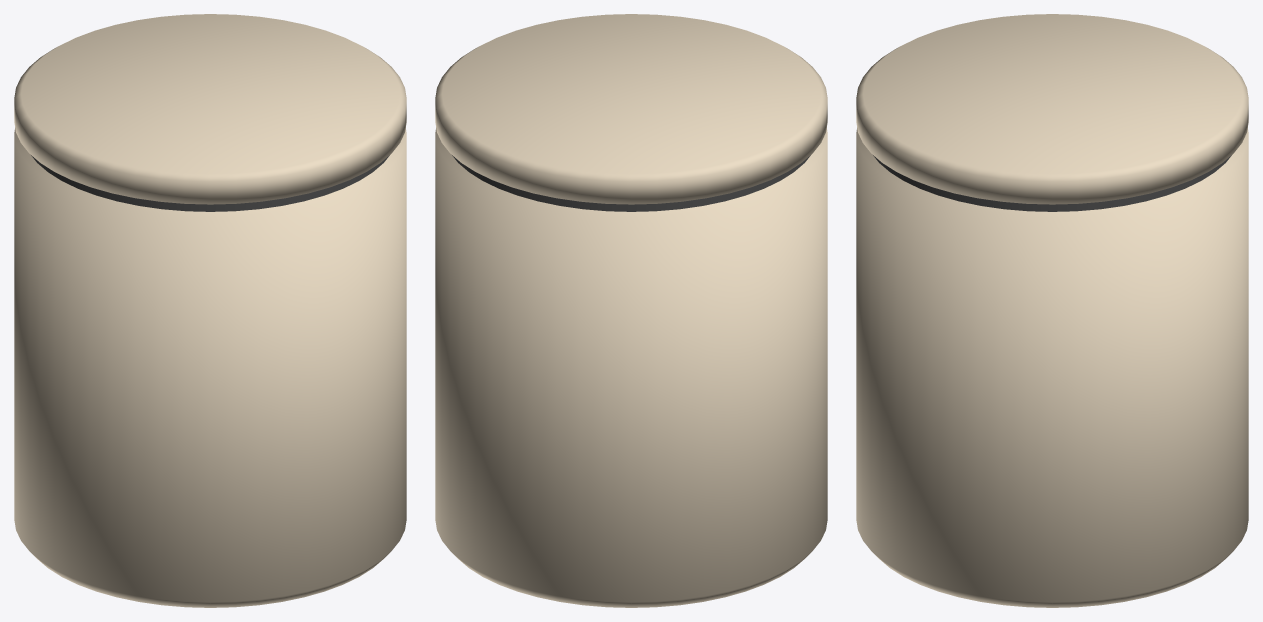
File: mo_side_table.glb
3 views of the same model, side by side, from view 1: azimuth 30°, elevation 25°; view 2: azimuth 150°, elevation 25°; view 3: azimuth 270°, elevation 25° (orthographic).
Visible parts, largest first — view 1: drum, shadow; view 2: drum, shadow; view 3: drum, shadow.
Part boxes in pixels (x1,y1,x2,y2): drum: (14,14,406,607); shadow: (31,155,389,211); drum: (435,14,827,607); shadow: (452,155,810,211); drum: (856,14,1248,607); shadow: (873,155,1231,211).
Bounding box in the file's own units: 0.45 × 0.551 × 0.45.
